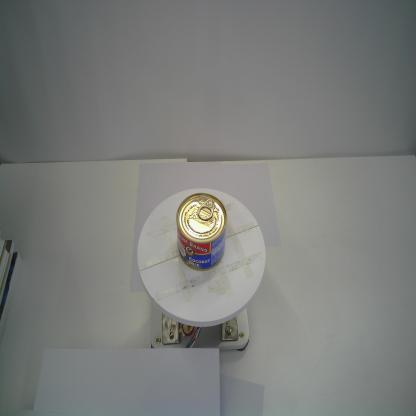Canned Food: (174, 191, 229, 271)
